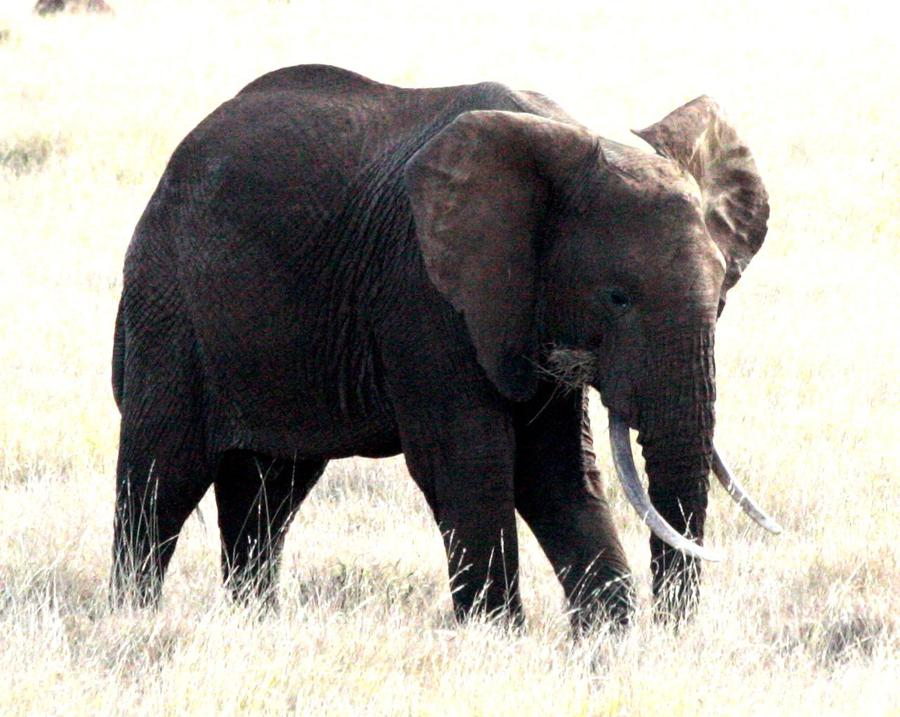elephant: (393, 96, 738, 442)
